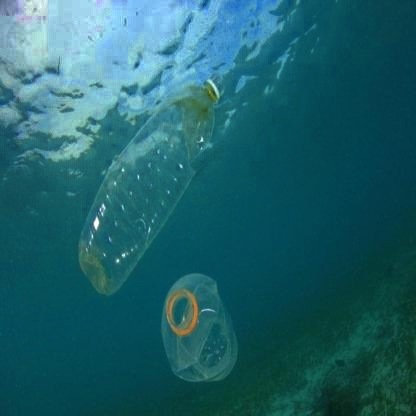pbottle: (69, 70, 232, 295), (146, 266, 244, 383)
